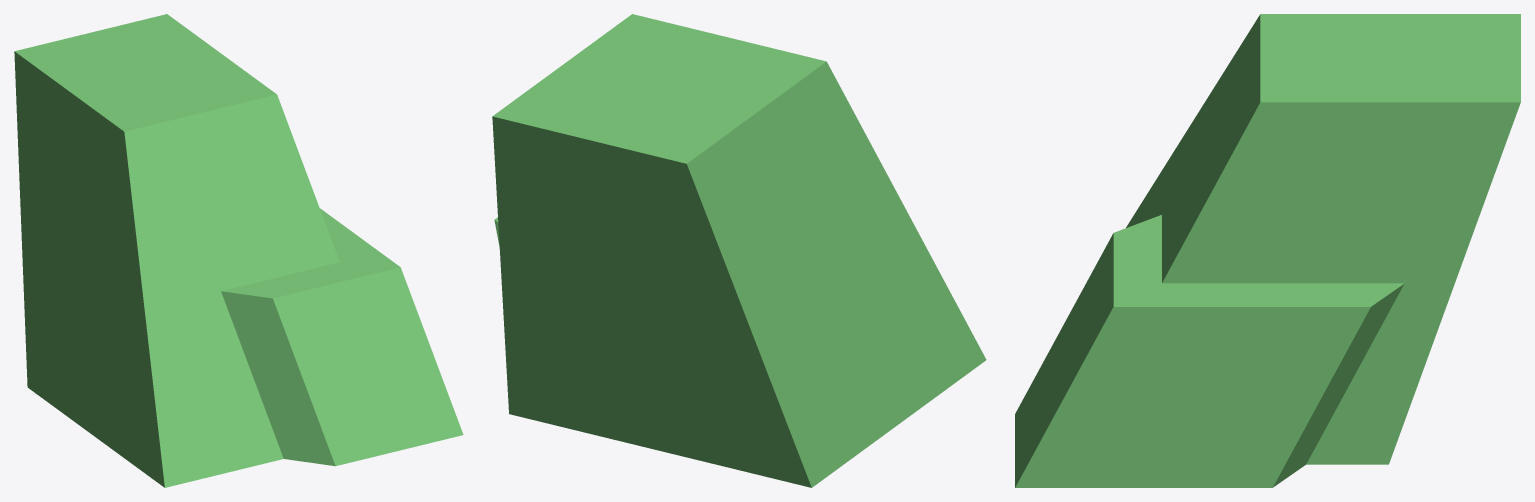
The model's file is x_skala_dont_crash_24_1_rmstrd.fbx.
3 renders of one model, left to right at view 1: azimuth 30°, elevation 25°; view 2: azimuth 150°, elevation 25°; view 3: azimuth 270°, elevation 25°, orthographic. The views are drawn at different scales.
Parts seen in each view (by area): view 1: x_skala_dont_crash_24_1_rmstrd1; view 2: x_skala_dont_crash_24_1_rmstrd1; view 3: x_skala_dont_crash_24_1_rmstrd1.
Boxes of the visible parts, x1,y1,x2,y2 form: x_skala_dont_crash_24_1_rmstrd1: (14, 14, 463, 487); x_skala_dont_crash_24_1_rmstrd1: (492, 14, 986, 487); x_skala_dont_crash_24_1_rmstrd1: (1015, 14, 1520, 487).
Bounding box in the file's own units: 1.17 × 1.15 × 1.55.
